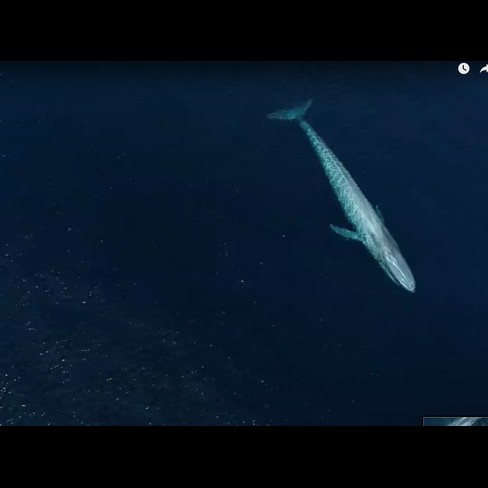bluewhale: (268, 96, 419, 300)
